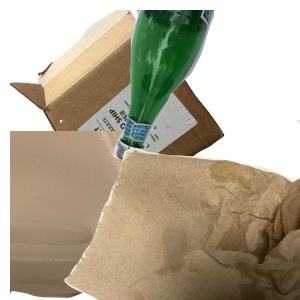cardboard: (10, 10, 227, 190)
glass: (109, 10, 300, 167)
plastic: (10, 131, 196, 300)
trash: (60, 120, 300, 300)
